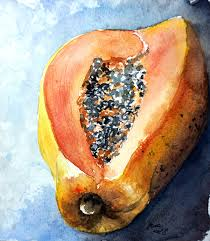papaya: (37, 17, 207, 235)
